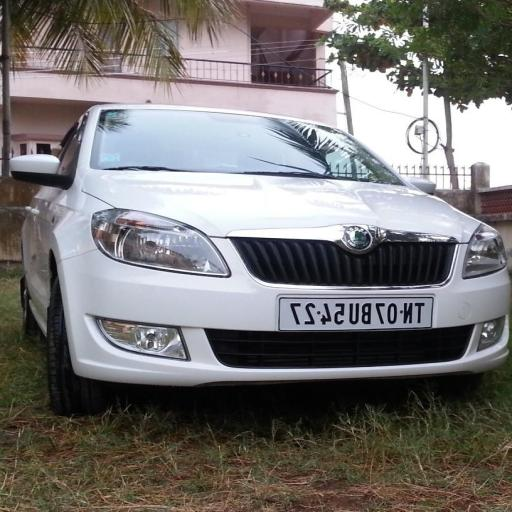License: (278, 295, 436, 329)
